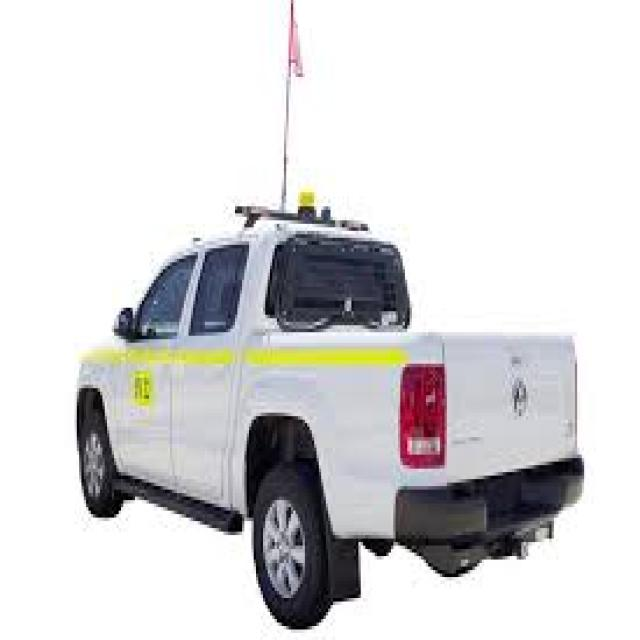light_vehicle: (67, 182, 596, 629)
